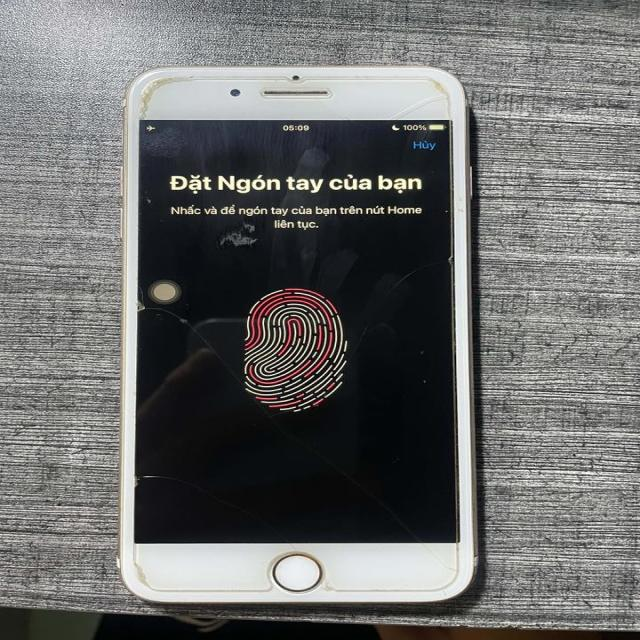physical_damage: (327, 248, 450, 375), (130, 287, 240, 391), (133, 75, 200, 118), (413, 532, 462, 574), (422, 72, 458, 117), (134, 556, 154, 590), (440, 246, 463, 273), (320, 578, 340, 594)
scratch: (209, 216, 269, 259)
